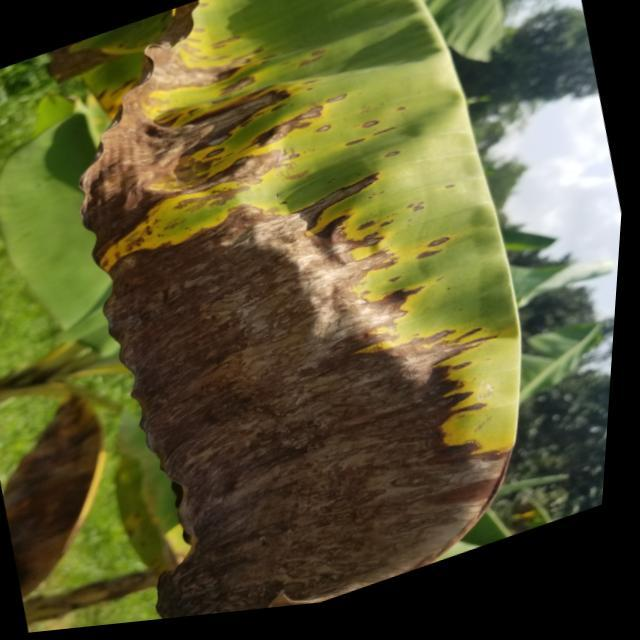Early_rust: (0, 0, 518, 621)
